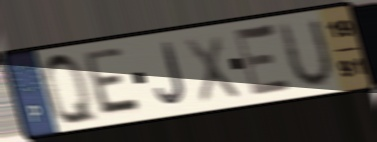E: (231, 21, 296, 100), (82, 45, 146, 118)
J: (153, 40, 189, 108)
Q: (40, 49, 103, 128)
U: (277, 15, 336, 92)
X: (181, 31, 244, 106)
